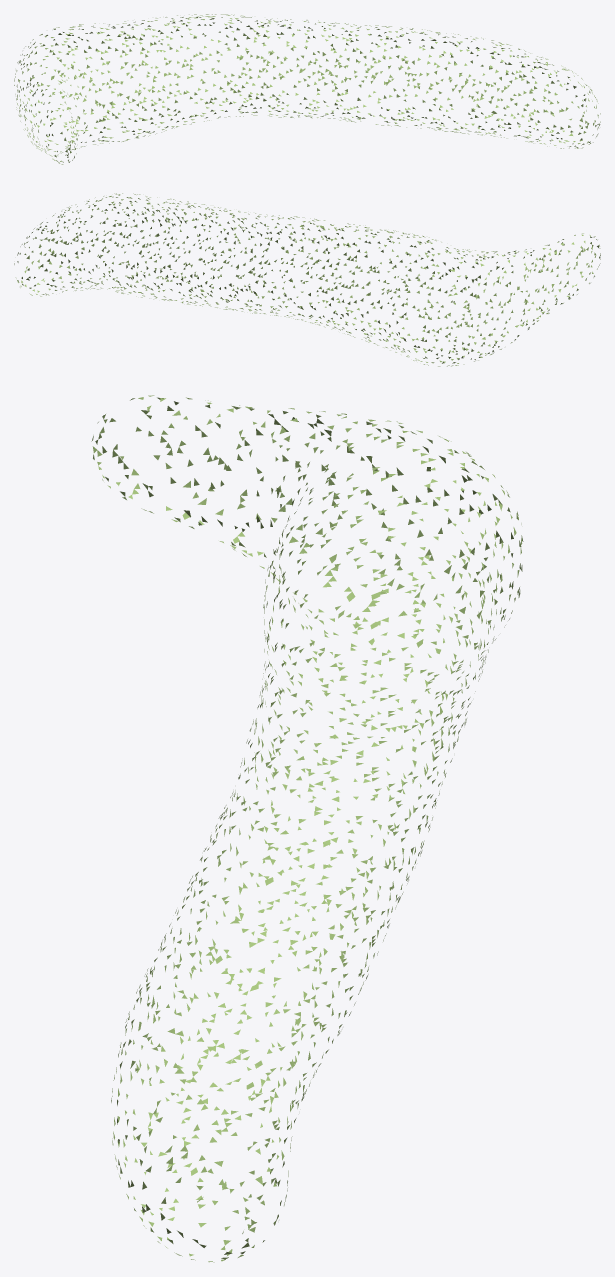
Rendered from morph_012.glb.
3 renders of one model, top to bottom at view 1: azimuth 30°, elevation 25°; view 2: azimuth 150°, elevation 25°; view 3: azimuth 270°, elevation 25°, orthographic. The views are drawn at different scales.
Bounding box in the file's own units: 117 × 37.28 × 39.28.
